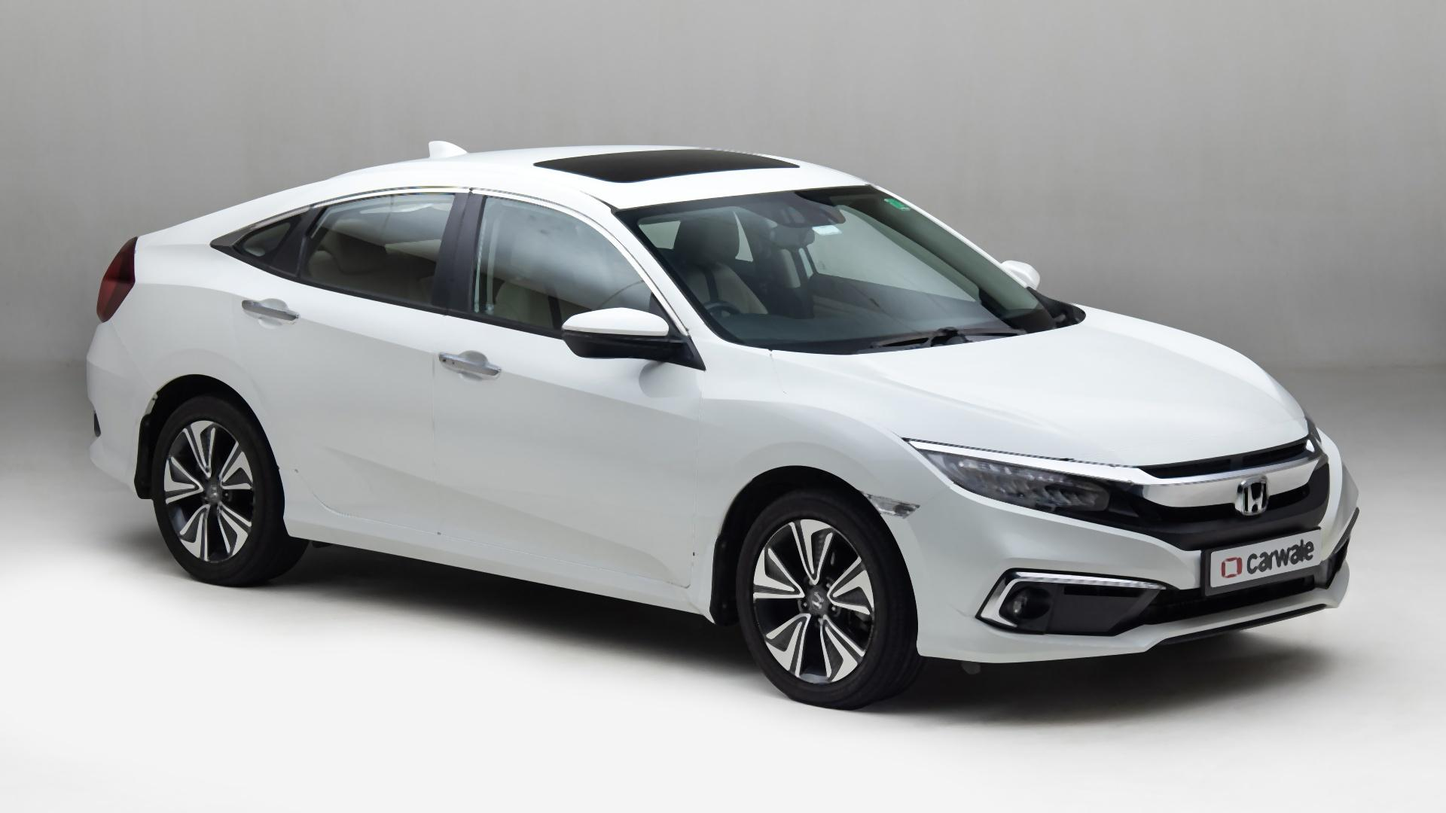Car hood: (759, 313, 1319, 472)
Driver-s door - -F-R-: (439, 173, 695, 595)
Fender - -F-R-: (693, 331, 946, 610)
Fender - -R-R-: (113, 256, 290, 538)
Front bumper: (899, 491, 1383, 672)
Headlight - -R-: (893, 433, 1141, 527)
Passenger-s door - -R-R-: (234, 168, 436, 547)
Rear bumper: (77, 331, 154, 504)
Rear light - -R-: (83, 224, 152, 330)
Side bumper - -R-: (277, 493, 732, 629)
Side mirror - -L-: (989, 239, 1051, 299)
Side mirror - -R-: (554, 296, 700, 376)
